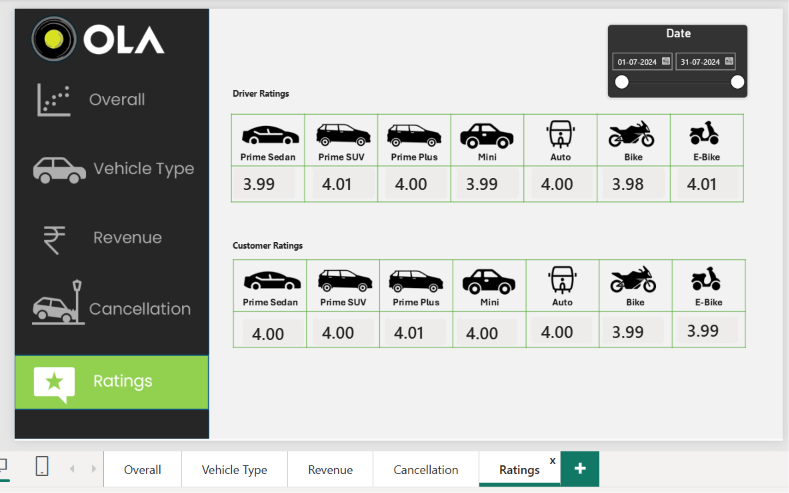

This screenshot's page, from the dashboard's own definition file:
{"tool":"powerbi","page":{"name":"Ratings","canvas":[1280,720],"ordinal":4},"visuals":[{"type":"actionButton","box":[0,224.3,326.1,92.3],"z":0},{"type":"actionButton","box":[1.6,326.1,326.1,92.3],"z":1000},{"type":"actionButton","box":[0,450.1,326.1,92.3],"z":2000},{"type":"actionButton","box":[0,103.3,326.1,92.3],"z":3000},{"type":"cardVisual","fields":{"Data":["Avg(July.Driver_Ratings)"]},"box":[362.8,262.7,105.8,54.8],"z":3001},{"type":"cardVisual","fields":{"Data":["Avg(July.Driver_Ratings)"]},"box":[495.1,262.7,105.8,54.8],"z":3002},{"type":"cardVisual","fields":{"Data":["Avg(July.Driver_Ratings)"]},"box":[616.1,262.7,105.8,54.8],"z":3003},{"type":"cardVisual","fields":{"Data":["Avg(July.Driver_Ratings)"]},"box":[735.1,262.7,105.8,54.8],"z":3004},{"type":"cardVisual","fields":{"Data":["Avg(July.Driver_Ratings)"]},"box":[859.8,262.7,105.8,54.8],"z":3005},{"type":"cardVisual","fields":{"Data":["Avg(July.Driver_Ratings)"]},"box":[978.9,262.7,105.8,54.8],"z":3006},{"type":"cardVisual","fields":{"Data":["Avg(July.Driver_Ratings)"]},"box":[1103.6,262.7,105.8,54.8],"z":3007},{"type":"cardVisual","fields":{"Data":["Avg(July.Customer_Rating)"]},"box":[378.6,516.9,104,46],"z":3008},{"type":"cardVisual","fields":{"Data":["Avg(July.Customer_Rating)"]},"box":[494.7,515.4,104,46],"z":3009},{"type":"cardVisual","fields":{"Data":["Avg(July.Customer_Rating)"]},"box":[615.6,515.4,104,46],"z":3010},{"type":"cardVisual","fields":{"Data":["Avg(July.Customer_Rating)"]},"box":[734.9,515.4,103.4,47.7],"z":3011},{"type":"cardVisual","fields":{"Data":["Avg(July.Customer_Rating)"]},"box":[860.5,513.8,104,46],"z":3012},{"type":"cardVisual","fields":{"Data":["Avg(July.Customer_Rating)"]},"box":[978.2,513.8,104,46],"z":3013},{"type":"cardVisual","fields":{"Data":["Avg(July.Customer_Rating)"]},"box":[1103.9,512.2,104,46],"z":3014},{"type":"textbox","box":[363.3,131.7,298.3,43.3],"z":3015},{"type":"textbox","box":[363.3,385,185,33.3],"z":3016},{"type":"slicer","title":"Date","fields":{"Values":["July.Date"]},"box":[986.7,25,236.7,125],"z":3017}]}

Visuals, with their boxes on the page's 1280x720 design canvas (x1, y1, x2, y2). These are canvas units, not pixel positions in the 789x493 screenshot, which may show the page scaled, cropped or inside an application window:
actionButton: bbox=[0, 224, 326, 317]
actionButton: bbox=[2, 326, 328, 418]
actionButton: bbox=[0, 450, 326, 542]
actionButton: bbox=[0, 103, 326, 196]
cardVisual - Avg(July.Driver_Ratings): bbox=[363, 263, 469, 318]
cardVisual - Avg(July.Driver_Ratings): bbox=[495, 263, 601, 318]
cardVisual - Avg(July.Driver_Ratings): bbox=[616, 263, 722, 318]
cardVisual - Avg(July.Driver_Ratings): bbox=[735, 263, 841, 318]
cardVisual - Avg(July.Driver_Ratings): bbox=[860, 263, 966, 318]
cardVisual - Avg(July.Driver_Ratings): bbox=[979, 263, 1085, 318]
cardVisual - Avg(July.Driver_Ratings): bbox=[1104, 263, 1209, 318]
cardVisual - Avg(July.Customer_Rating): bbox=[379, 517, 483, 563]
cardVisual - Avg(July.Customer_Rating): bbox=[495, 515, 599, 561]
cardVisual - Avg(July.Customer_Rating): bbox=[616, 515, 720, 561]
cardVisual - Avg(July.Customer_Rating): bbox=[735, 515, 838, 563]
cardVisual - Avg(July.Customer_Rating): bbox=[860, 514, 964, 560]
cardVisual - Avg(July.Customer_Rating): bbox=[978, 514, 1082, 560]
cardVisual - Avg(July.Customer_Rating): bbox=[1104, 512, 1208, 558]
textbox: bbox=[363, 132, 662, 175]
textbox: bbox=[363, 385, 548, 418]
"Date" slicer: bbox=[987, 25, 1223, 150]
